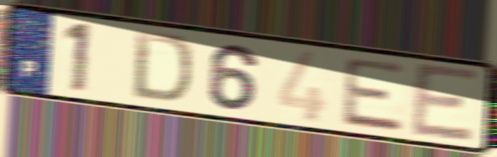1: (62, 21, 96, 95)
4: (274, 48, 330, 126)
6: (208, 41, 261, 113)
D: (129, 28, 196, 106)
E: (409, 59, 481, 144), (339, 55, 409, 135)
